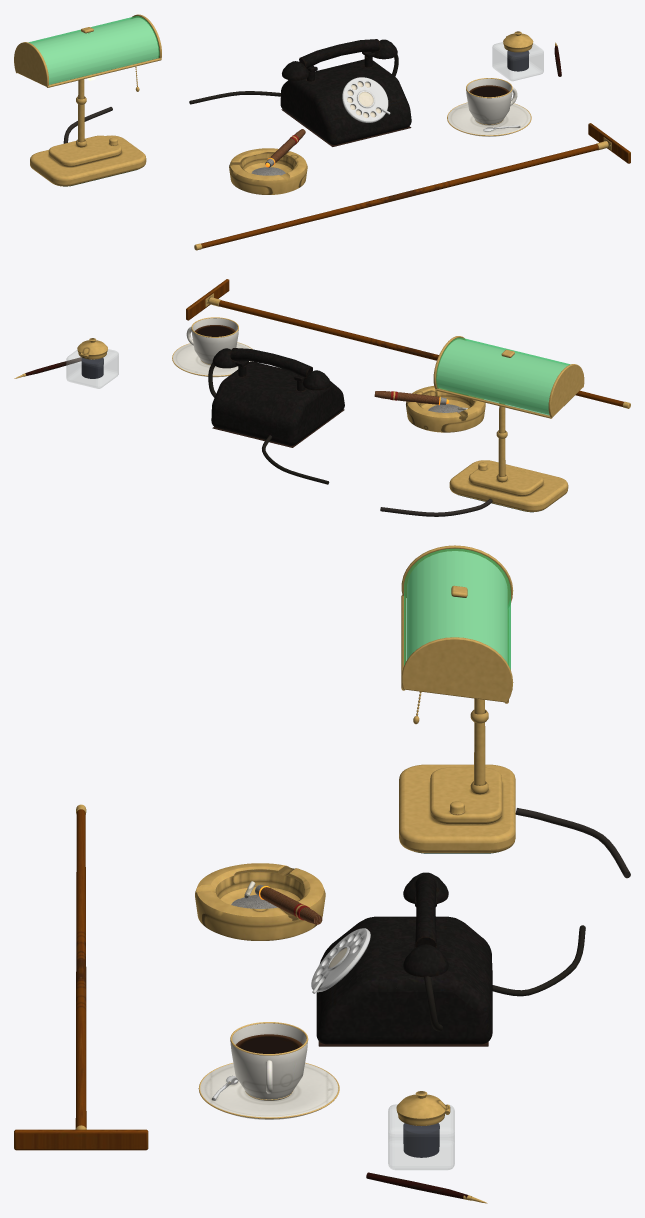
The model's file is props.glb.
The picture shows the model from 3 angles, top to bottom: view 1: azimuth 30°, elevation 25°; view 2: azimuth 150°, elevation 25°; view 3: azimuth 270°, elevation 25°; orthographic projection. The views are drawn at different scales.
Visible parts, largest first — view 1: lamp, phone, cup, rake, ashtray, inkwell; view 2: lamp, phone, ashtray, cup, rake, inkwell; view 3: lamp, phone, cup, ashtray, rake, inkwell.
Part boxes in pixels (x1,y1,x2,y2): lamp: (14, 14, 161, 186); phone: (189, 39, 411, 146); cup: (447, 78, 531, 136); rake: (194, 123, 630, 250); ashtray: (229, 129, 307, 194); inkwell: (492, 31, 561, 80); lamp: (380, 336, 584, 516); phone: (208, 348, 344, 484); ashtray: (374, 386, 485, 432); cup: (172, 317, 253, 377); rake: (186, 279, 630, 408); inkwell: (14, 338, 118, 388); lamp: (399, 545, 630, 878); phone: (311, 872, 585, 1046); cup: (198, 1022, 339, 1119); ashtray: (195, 863, 325, 940); rake: (14, 804, 148, 1150); inkwell: (366, 1091, 487, 1203).
Size of the model in its own units: 11.47 by 2.82 by 6.89.
10 materials, 6 textured.
